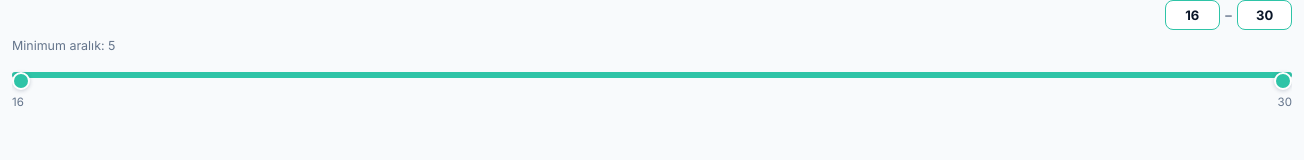
Test: DualRangeSlider › geçersiz minimum değeri onaylanınca eski değere döner
Replace the text in the field named "Minimum" with "100": (1192, 15) [1173, 6, 1211, 24]
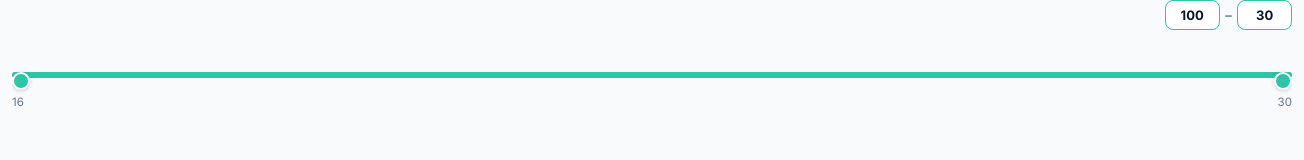
Leave the field named "Minimum", box [1173, 6, 1211, 24]
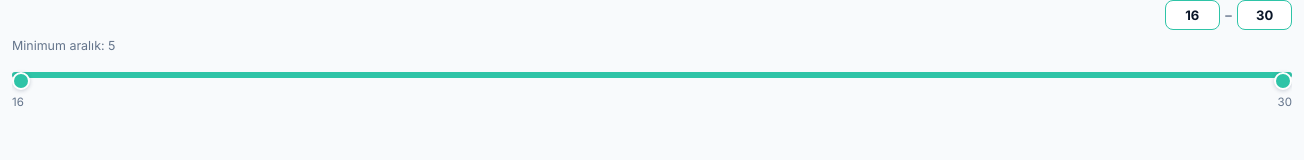
Expected: the field named "Minimum" holds "16", [1173, 6, 1211, 24]
